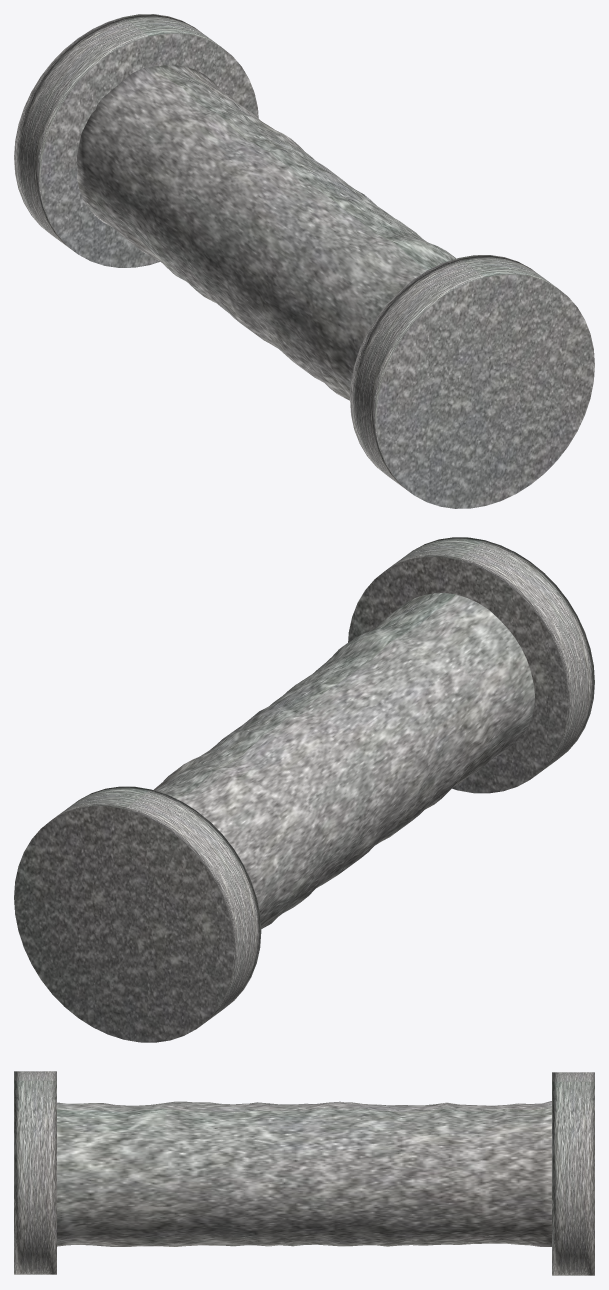
Rendered from saeule.gltf.
3 views of the same model, one above another, from view 1: azimuth 30°, elevation 25°; view 2: azimuth 150°, elevation 25°; view 3: azimuth 270°, elevation 25° (orthographic). The views are drawn at different scales.
Visible parts, largest first — view 1: pillar_middle, pillar_top, pillar_bottom; view 2: pillar_middle, pillar_bottom, pillar_top; view 3: pillar_middle, pillar_top, pillar_bottom.
Part boxes in pixels (x1,y1,x2,y2): pillar_middle: [77, 65, 455, 400]; pillar_top: [350, 255, 594, 508]; pillar_bottom: [14, 14, 258, 267]; pillar_middle: [153, 593, 534, 929]; pillar_bottom: [14, 786, 261, 1042]; pillar_top: [348, 537, 594, 793]; pillar_middle: [57, 1101, 551, 1246]; pillar_top: [14, 1071, 56, 1274]; pillar_bottom: [552, 1072, 594, 1275].
Size of the model in its own units: 0.7083 by 0.7076 by 2.
3 materials, 3 textured.
